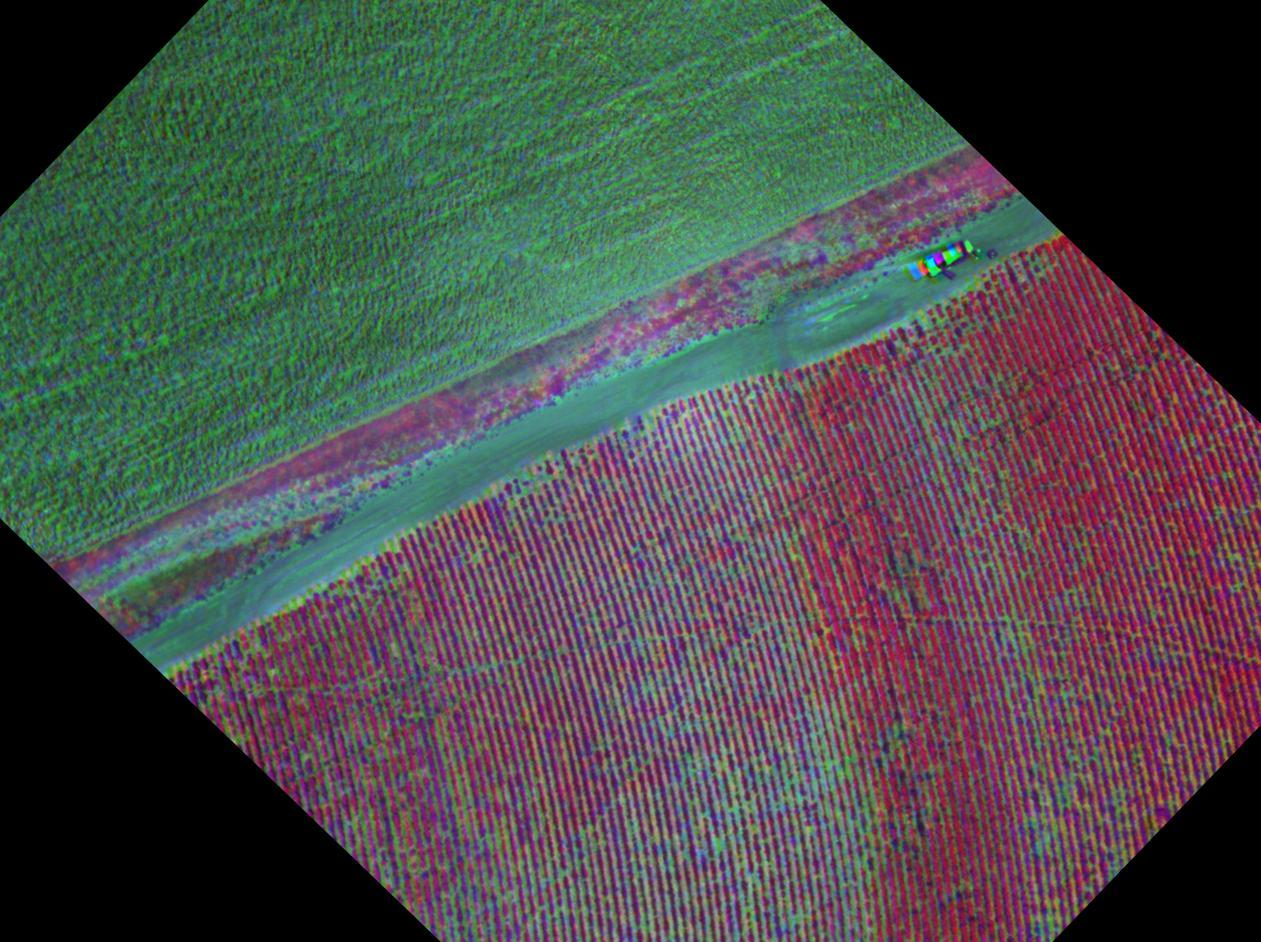dc: (1004, 617, 1008, 621), (991, 423, 994, 427), (989, 562, 992, 566), (716, 841, 720, 844), (925, 320, 928, 323), (939, 320, 942, 323), (958, 436, 961, 439), (1002, 485, 1005, 488), (1072, 589, 1075, 592), (513, 662, 516, 665), (827, 762, 830, 765), (498, 795, 501, 798), (756, 830, 759, 833), (547, 915, 550, 918), (502, 922, 505, 925), (899, 518, 902, 520), (472, 556, 474, 559)
